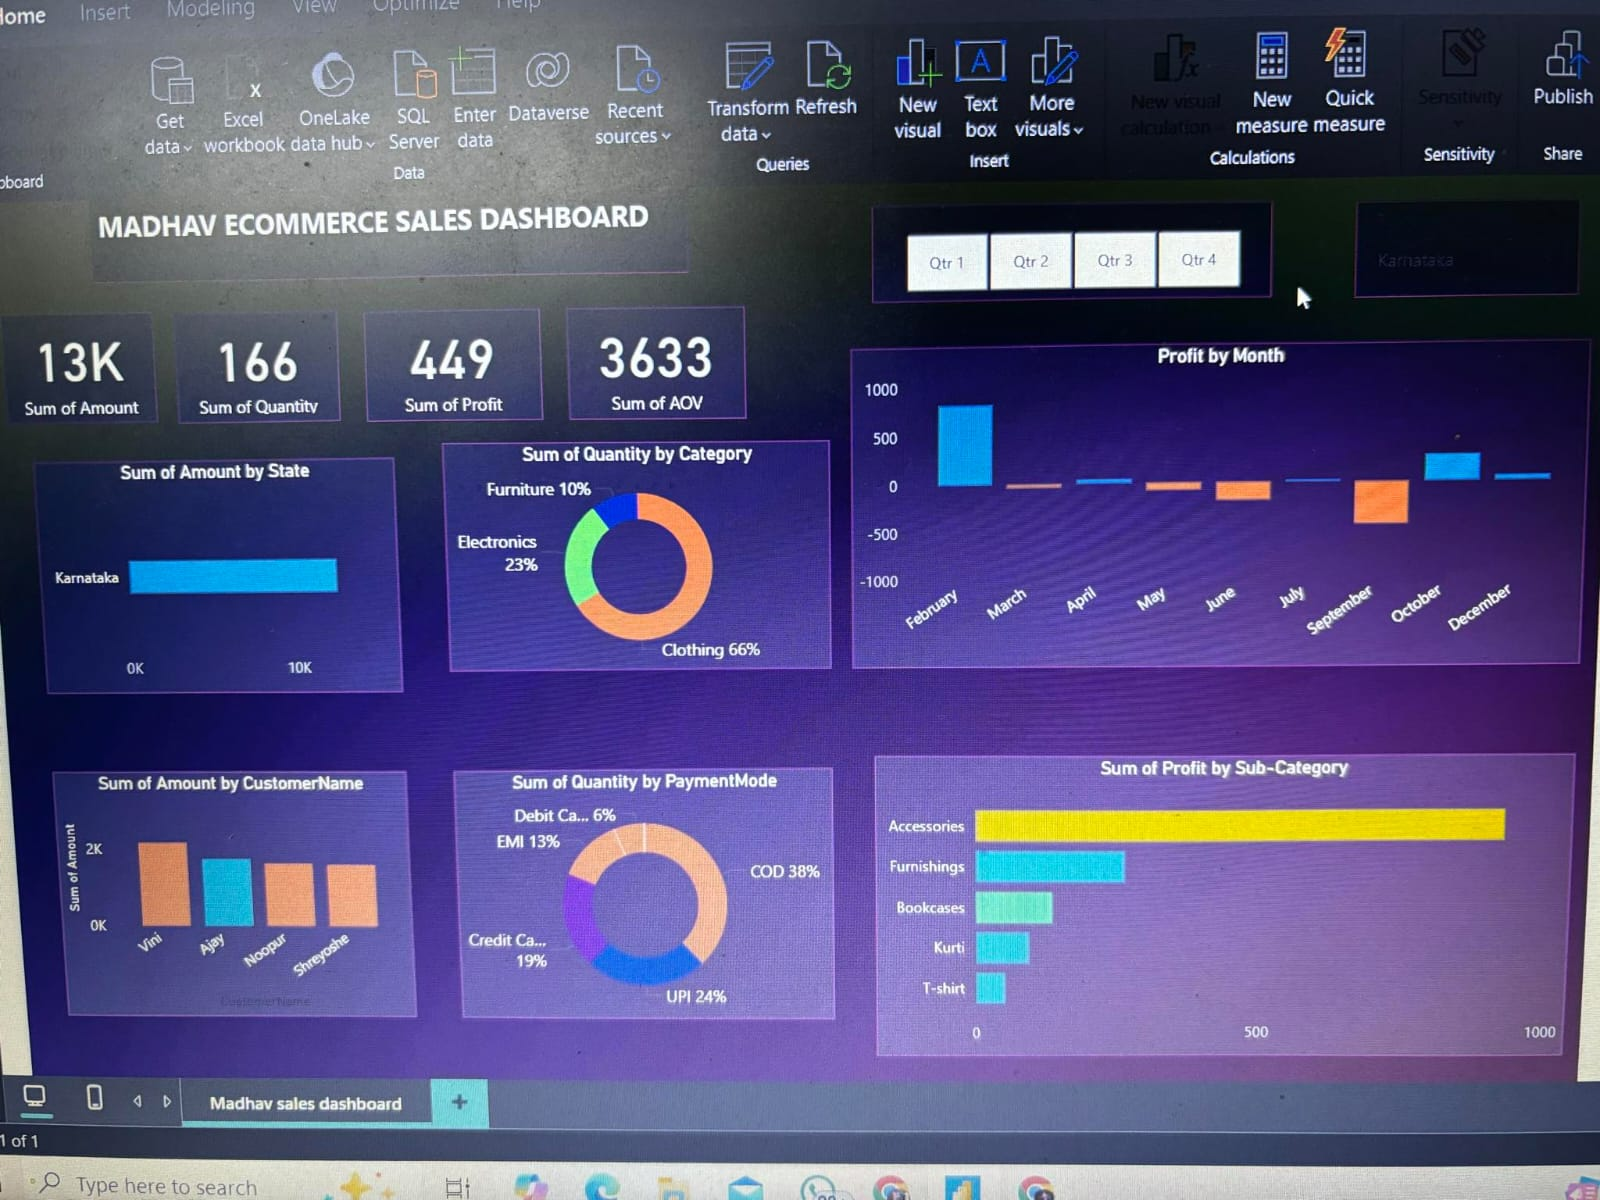

What the dashboard file says about the page in this screenshot:
{"tool":"powerbi","page":{"name":"Madhav sales dashboard","canvas":[1280,720],"ordinal":0},"visuals":[{"type":"textbox","box":[94.7,0,474.8,64.5],"z":0},{"type":"columnChart","title":"Profit by Month","fields":{"Y":["Sum(Details.Profit)"],"Category":["Orders.Order Date.Variation.Date Hierarchy.Month"]},"box":[694.3,124.9,572.2,252.5],"z":1000},{"type":"barChart","fields":{"Category":["Details.Sub-Category"],"Y":["Sum(Details.Profit)"]},"box":[711.8,449.1,554.4,248.2],"z":2000},{"type":"donutChart","fields":{"Category":["Details.Category"],"Y":["Sum(Details.Quantity)"]},"box":[370.5,194.9,307.4,182.5],"z":3000},{"type":"donutChart","fields":{"Y":["Sum(Details.Quantity)"],"Category":["Details.PaymentMode"]},"box":[370.4,458.8,307.5,207],"z":4000},{"type":"card","fields":{"Values":["Sum(Details.Amount)"]},"box":[16.5,87.8,123.5,86.4],"z":5000},{"type":"card","fields":{"Values":["Sum(Details.Quantity)"]},"box":[157.8,89.2,131.7,86.4],"z":6000},{"type":"card","fields":{"Values":["Sum(Details.Profit)"]},"box":[311.5,90.6,140,86.4],"z":7000},{"type":"card","fields":{"Values":["Sum(Details.AOV)"]},"box":[472,90.6,140,86.4],"z":8000},{"type":"barChart","fields":{"Category":["Orders.State"],"Y":["Sum(Details.Amount)"]},"box":[36.3,205.8,295.4,187.6],"z":9000},{"type":"columnChart","fields":{"Category":["Orders.CustomerName"],"Y":["Sum(Details.Amount)"]},"box":[36.3,458.8,295.4,207],"z":10000},{"type":"slicer","fields":{"Values":["Orders.Order Date.Variation.Date Hierarchy.Quarter"]},"box":[712.2,16.5,308.7,72.7],"z":11000},{"type":"slicer","fields":{"Values":["Orders.State"]},"box":[1084.1,17.8,171.5,72.7],"z":12000}]}

Visuals, with their boxes in screenshot pixels (x1, y1, x2, y2):
textbox: <box>192,329,756,406</box>
"Profit by Month" columnChart: <box>905,478,1585,778</box>
barChart - Details.Sub-Category x Sum(Details.Profit): <box>926,863,1585,1158</box>
donutChart - Details.Category x Sum(Details.Quantity): <box>520,561,885,778</box>
donutChart - Sum(Details.Quantity) x Details.PaymentMode: <box>520,875,885,1121</box>
card - Sum(Details.Amount): <box>99,434,246,536</box>
card - Sum(Details.Quantity): <box>267,435,423,538</box>
card - Sum(Details.Profit): <box>450,437,616,540</box>
card - Sum(Details.AOV): <box>640,437,807,540</box>
barChart - Orders.State x Sum(Details.Amount): <box>122,574,474,797</box>
columnChart - Orders.CustomerName x Sum(Details.Amount): <box>122,875,474,1121</box>
slicer - Orders.Order Date.Variation.Date Hierarchy.Quarter: <box>926,349,1293,435</box>
slicer - Orders.State: <box>1368,350,1572,437</box>
